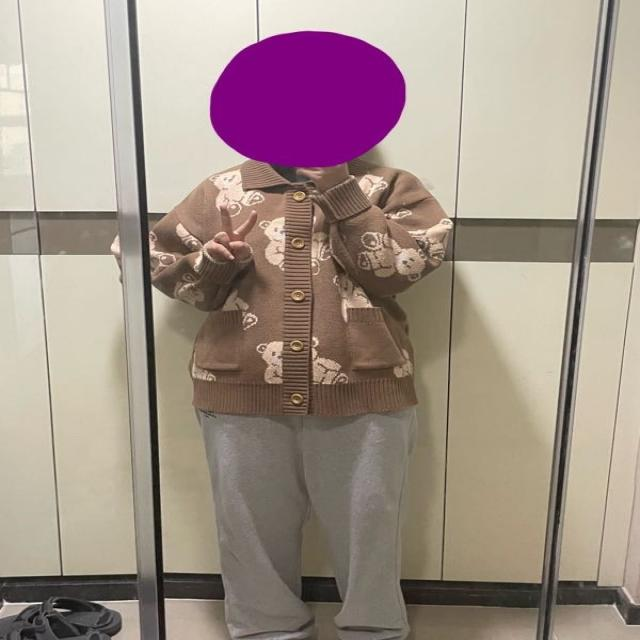cardigan: (143, 158, 458, 418)
trainingpants: (194, 408, 423, 640)
